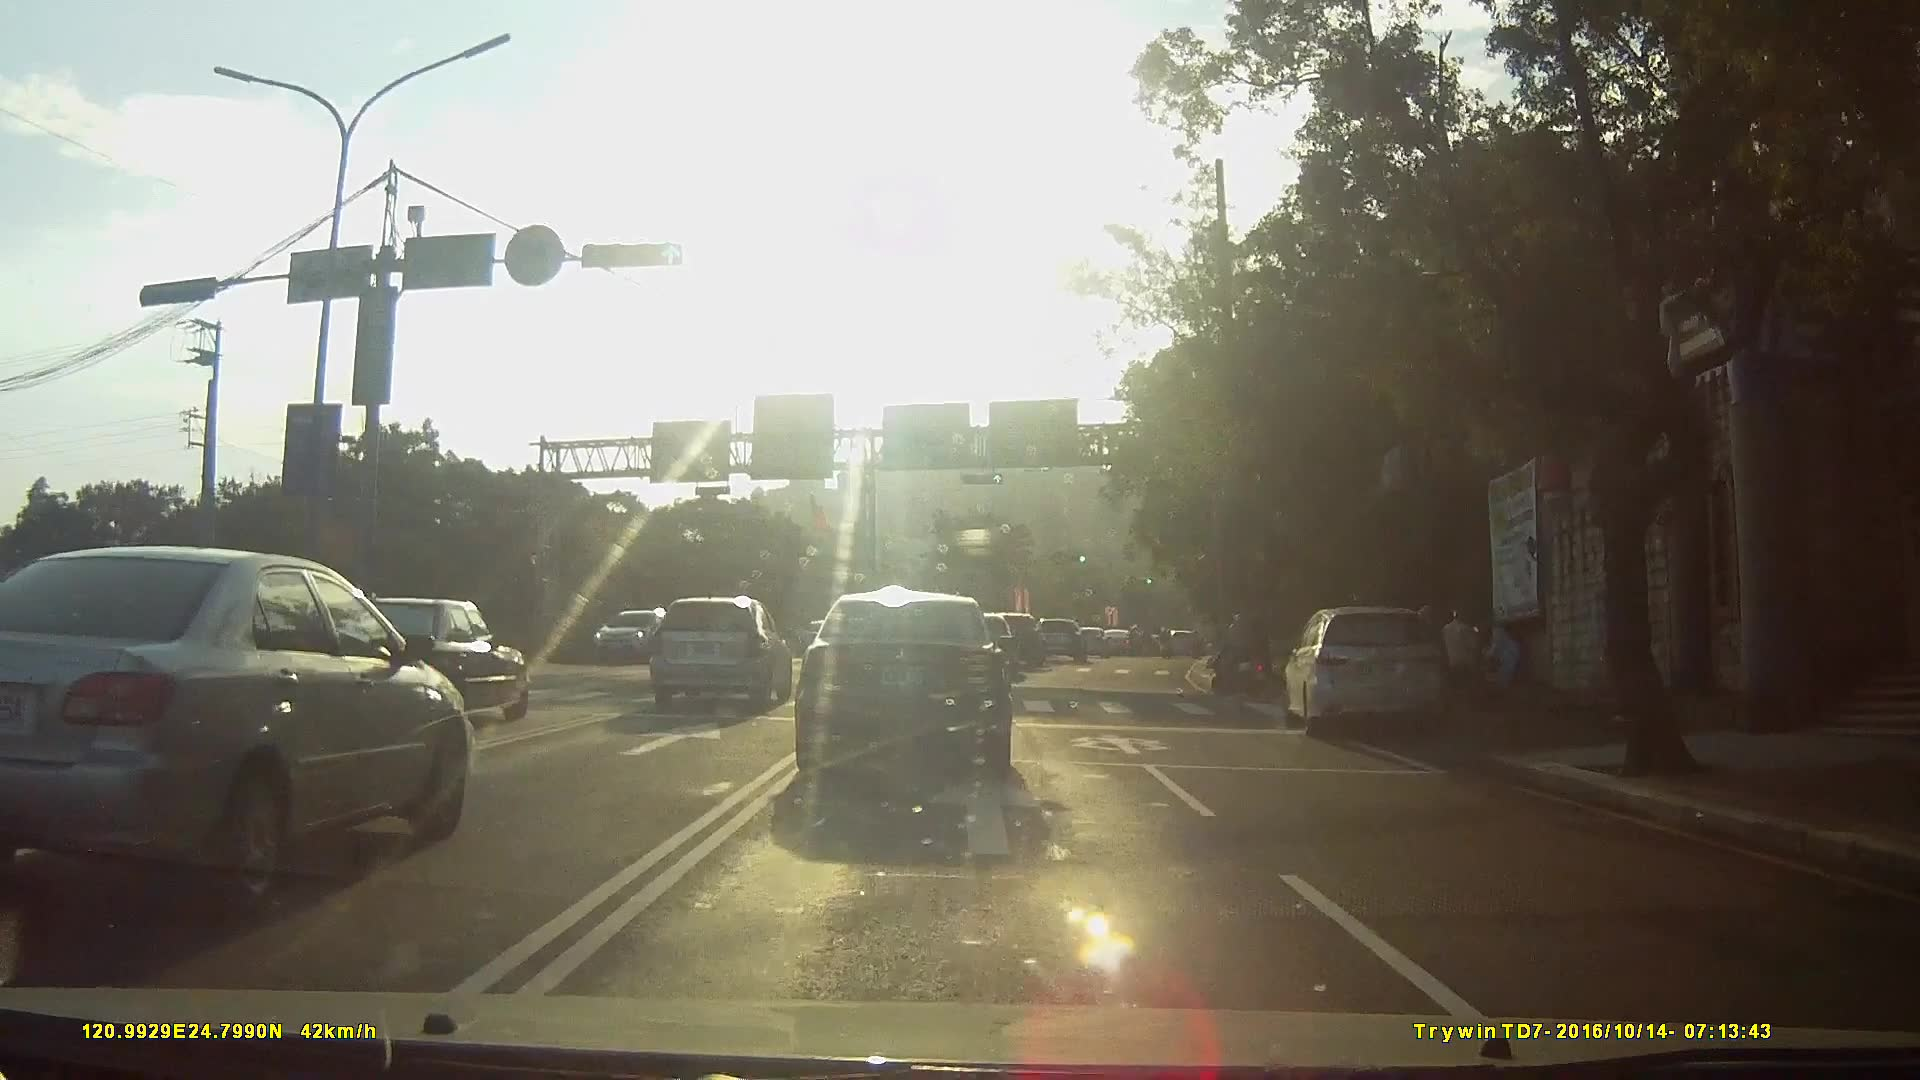pedestrian: (1447, 606, 1484, 722), (1486, 621, 1524, 691)
rider: (1214, 608, 1272, 694)
vehicle: (0, 549, 479, 914), (790, 590, 1034, 800), (322, 596, 540, 728), (1280, 600, 1467, 743), (650, 596, 797, 716), (589, 605, 677, 667), (992, 609, 1054, 667), (1038, 616, 1095, 662), (1076, 624, 1115, 656), (1108, 627, 1139, 655)
